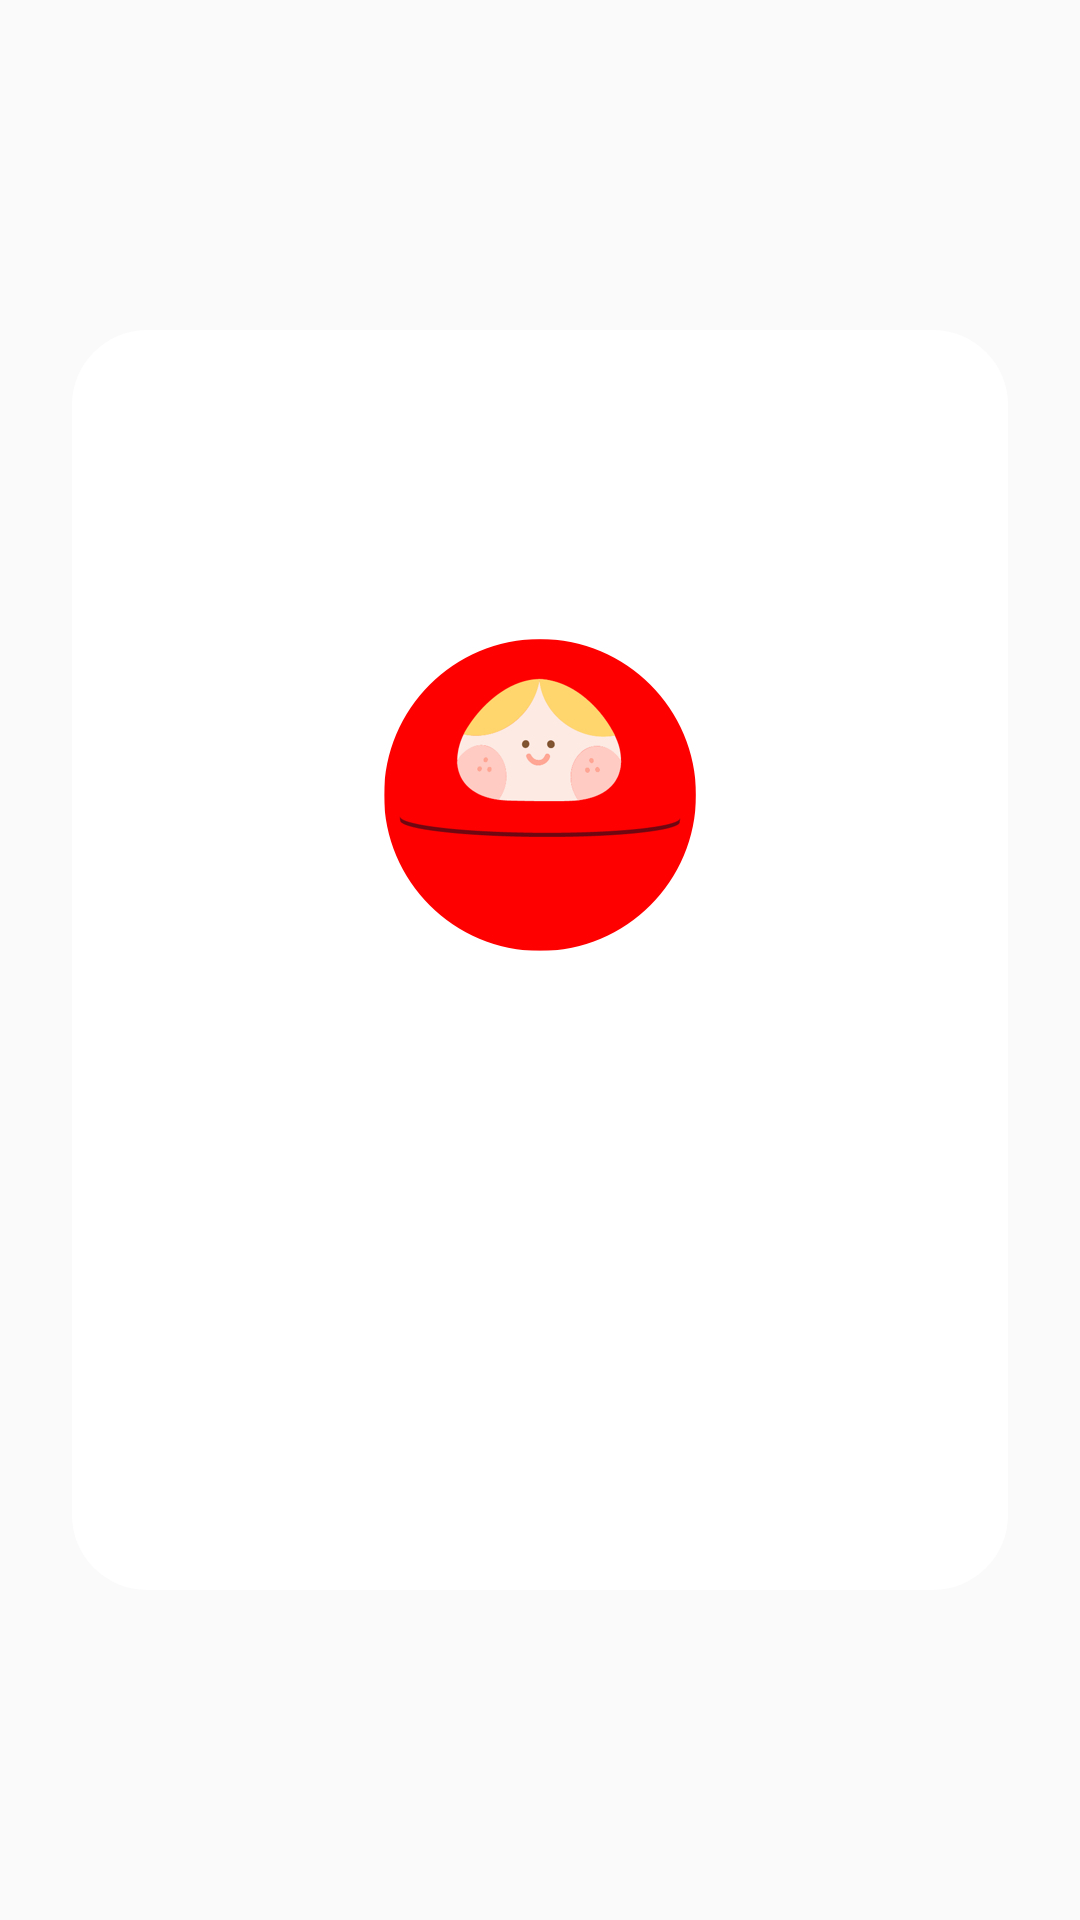

Locate icon controls on the screen. Image size 1080*1920, boxes as (x1, y1, x2, y2).
face: (384, 639, 696, 951)
